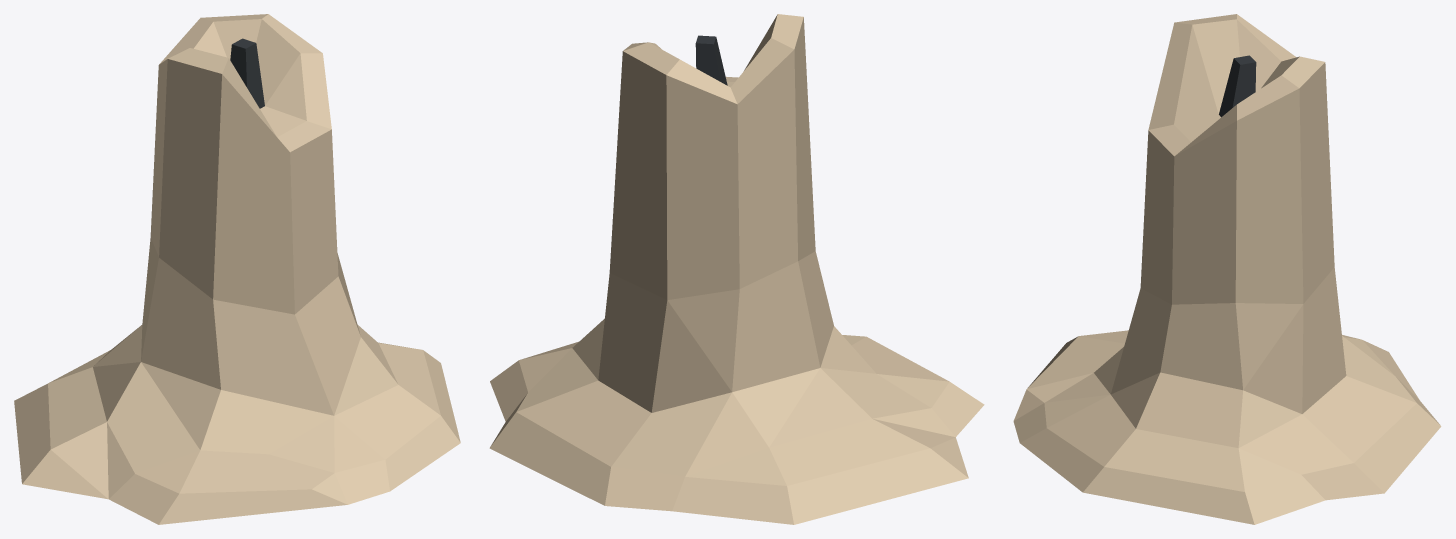
Rendered from SM_Prop_Candle_Melted_02.fbx.
3 renders of one model, left to right at view 1: azimuth 30°, elevation 25°; view 2: azimuth 150°, elevation 25°; view 3: azimuth 270°, elevation 25°, orthographic. The views are drawn at different scales.
Parts seen in each view (by area): view 1: SM_Prop_Candle_Melted_02; view 2: SM_Prop_Candle_Melted_02; view 3: SM_Prop_Candle_Melted_02.
Part boxes in pixels (x1=…): SM_Prop_Candle_Melted_02: x1=14, y1=14, x2=460, y2=524; SM_Prop_Candle_Melted_02: x1=489, y1=14, x2=984, y2=524; SM_Prop_Candle_Melted_02: x1=1013, y1=14, x2=1441, y2=524.
Bounding box in the file's own units: 0.1781 × 0.1504 × 0.1524.
1 material, 1 textured.
